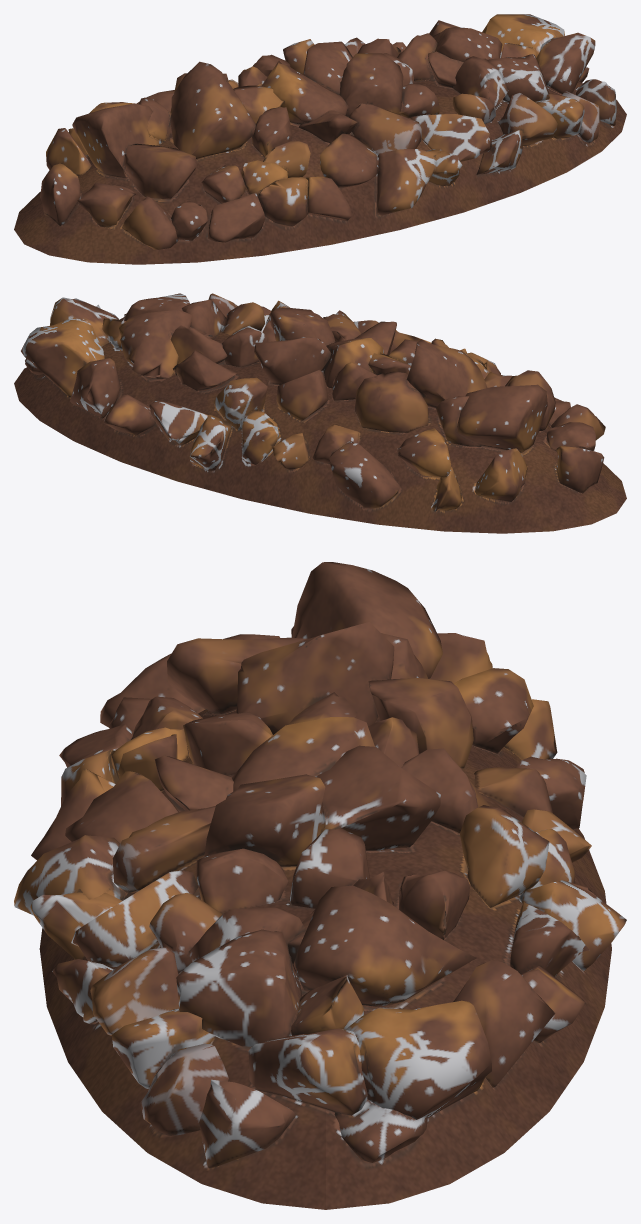
Rendered from SM_Camp_OreIron.fbx.
3 views of the same model, one above another, from view 1: azimuth 30°, elevation 25°; view 2: azimuth 150°, elevation 25°; view 3: azimuth 270°, elevation 25° (orthographic). The views are drawn at different scales.
Visible parts, largest first — view 1: SM_Camp_OreIron; view 2: SM_Camp_OreIron; view 3: SM_Camp_OreIron.
Part boxes in pixels (x1,y1,x2,y2): SM_Camp_OreIron: (14, 14, 626, 264); SM_Camp_OreIron: (14, 293, 626, 533); SM_Camp_OreIron: (14, 562, 626, 1209).
Bounding box in the file's own units: 164 × 81.4 × 33.88.
